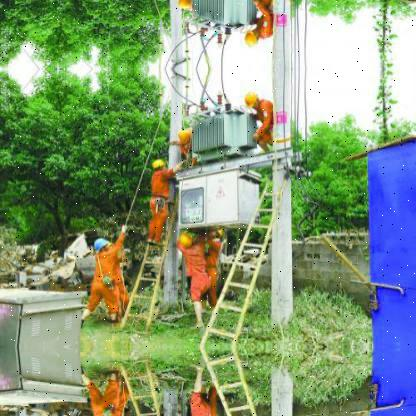Helmet: (244, 22, 266, 54), (176, 226, 200, 251), (242, 85, 262, 107), (204, 226, 228, 244), (90, 237, 110, 254), (150, 158, 166, 172)
